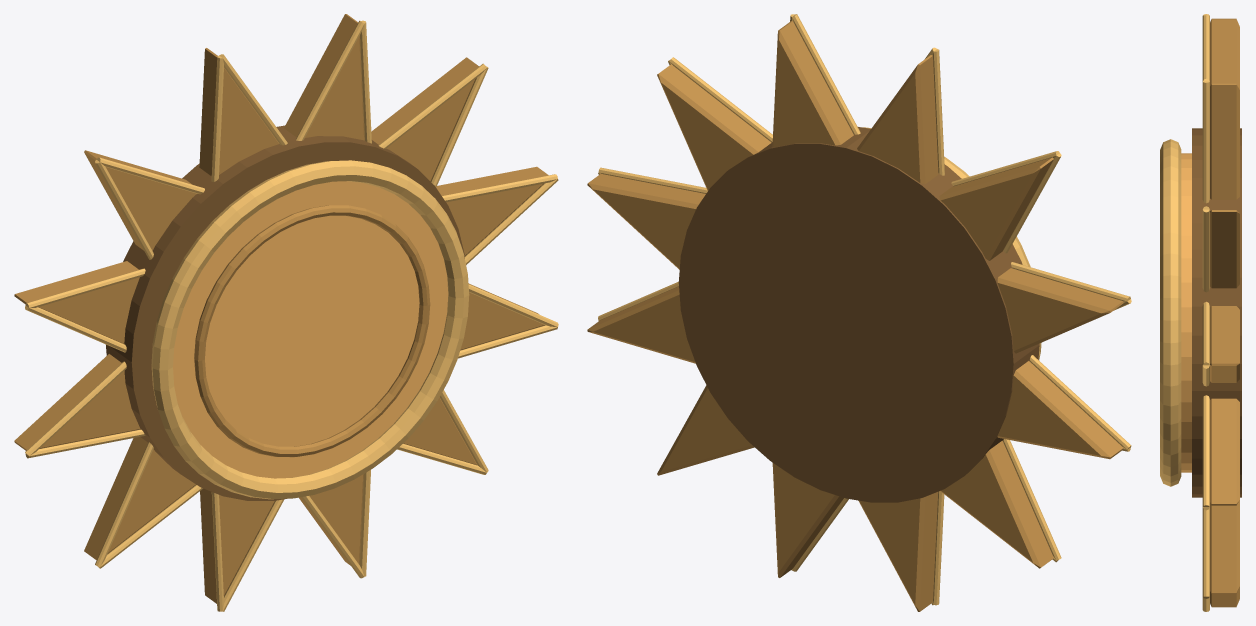
The model's file is SM_S3_BloomSun.fbx.
The picture shows the model from 3 angles, left to right: view 1: azimuth 30°, elevation 25°; view 2: azimuth 150°, elevation 25°; view 3: azimuth 270°, elevation 25°; orthographic projection. The views are drawn at different scales.
Visible parts, largest first — view 1: SM_S3_BloomSun; view 2: SM_S3_BloomSun; view 3: SM_S3_BloomSun.
Boxes of the visible parts, bbox=[...] form: SM_S3_BloomSun: bbox=[14, 14, 558, 611]; SM_S3_BloomSun: bbox=[587, 14, 1131, 611]; SM_S3_BloomSun: bbox=[1160, 14, 1241, 611].
Size of the model in its own units: 165 by 23 by 165.
